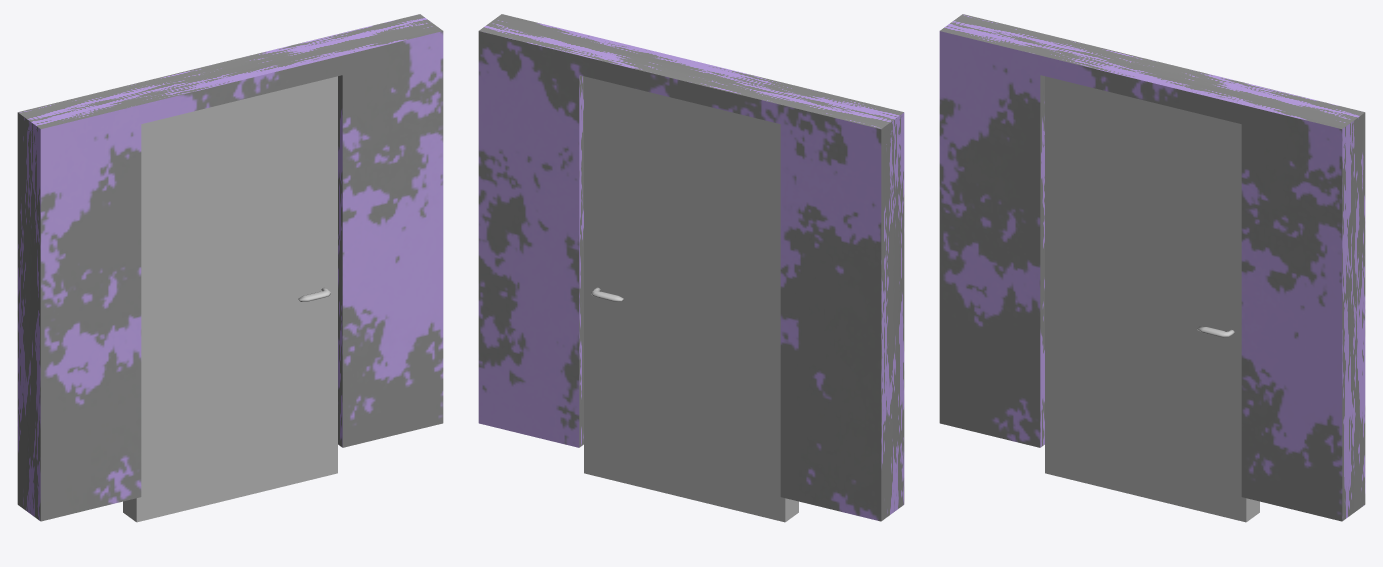
File: Puerta2.fbx
3 views of the same model, side by side, from view 1: azimuth 30°, elevation 25°; view 2: azimuth 150°, elevation 25°; view 3: azimuth 330°, elevation 25° (orthographic).
Visible parts, largest first — view 1: Marco Puerta, Puerta; view 2: Marco Puerta, Puerta; view 3: Marco Puerta, Puerta.
Boxes of the visible parts, x1=… form: Marco Puerta: x1=17, y1=14, x2=443, y2=521; Puerta: x1=123, y1=76, x2=337, y2=522; Marco Puerta: x1=478, y1=14, x2=904, y2=521; Puerta: x1=584, y1=76, x2=798, y2=522; Marco Puerta: x1=939, y1=14, x2=1365, y2=521; Puerta: x1=1045, y1=76, x2=1259, y2=522.
Size of the model in its own units: 200 by 200 by 25.64.
